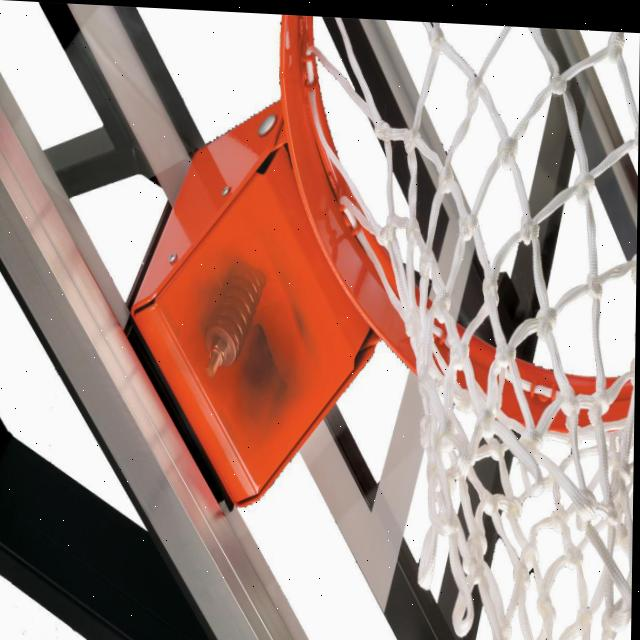hoop: (272, 15, 640, 640)
